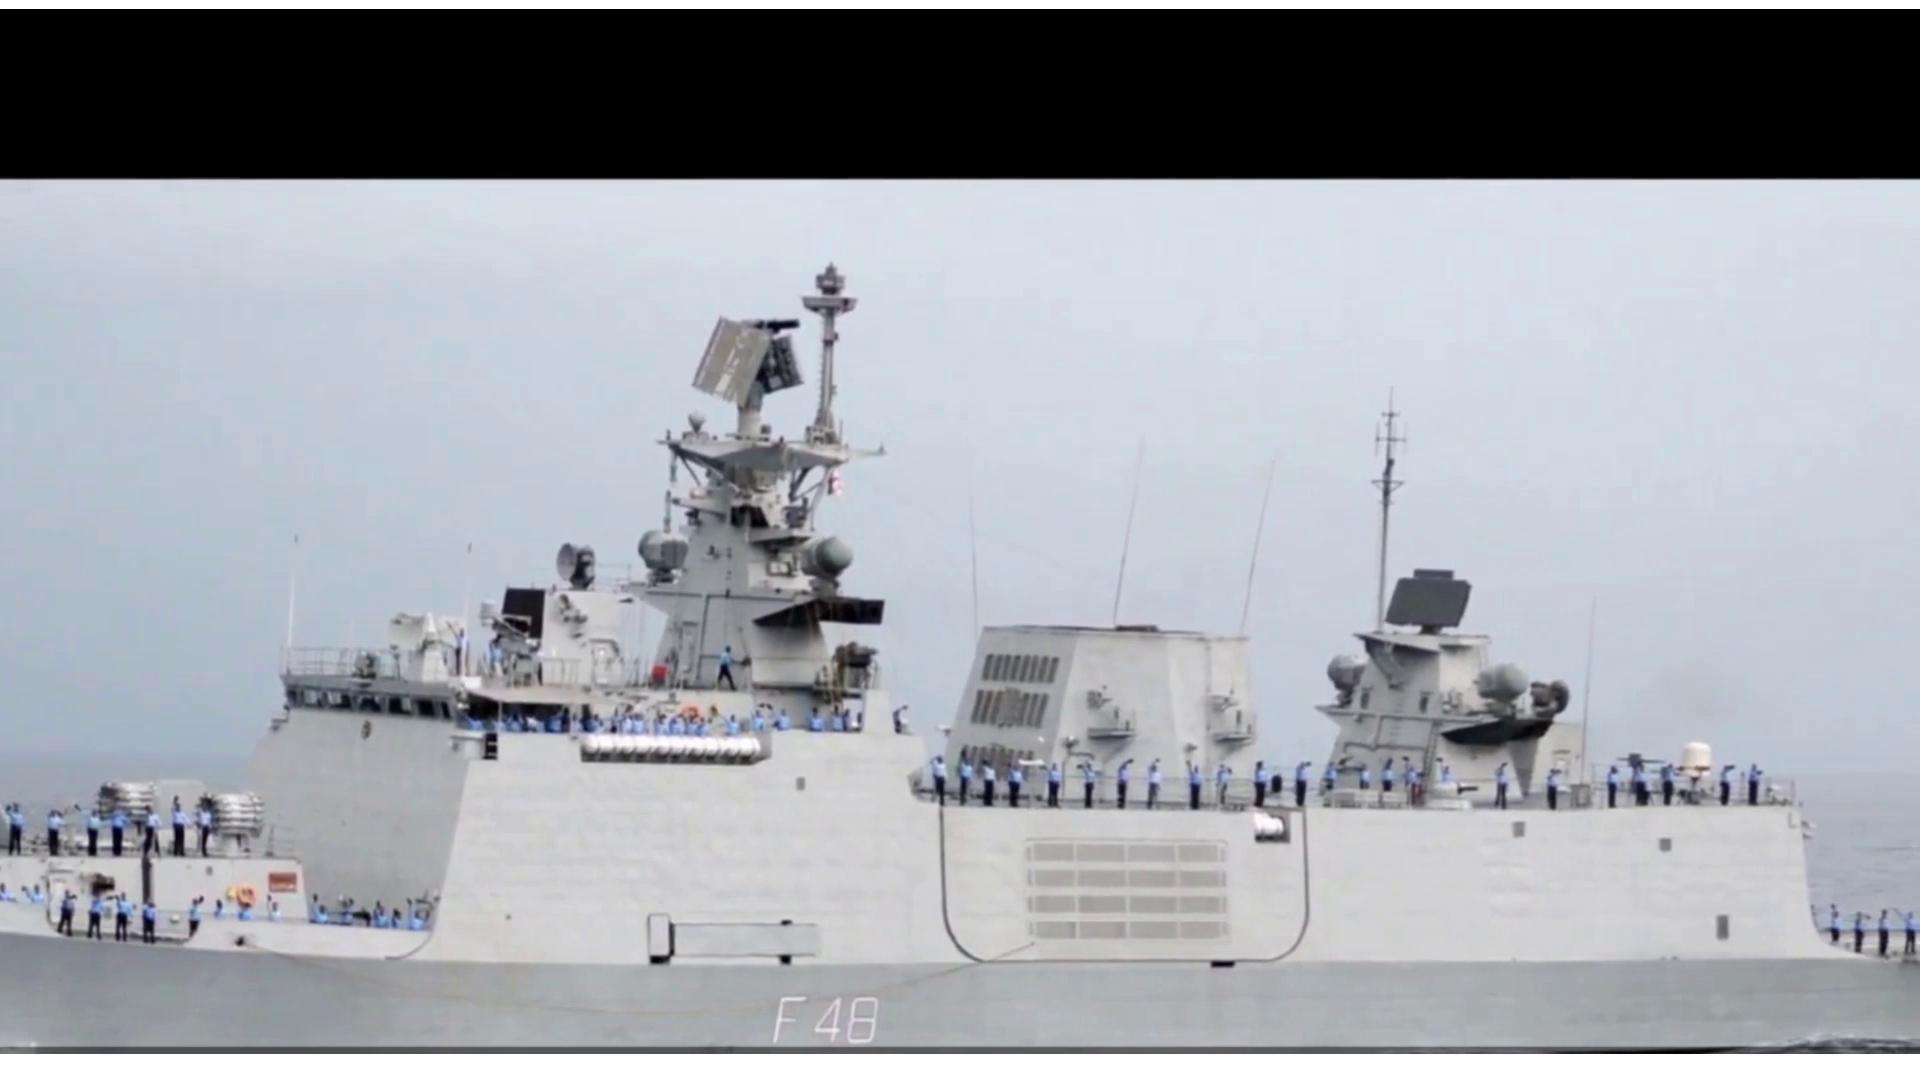OCR: (746, 989, 904, 1051)
